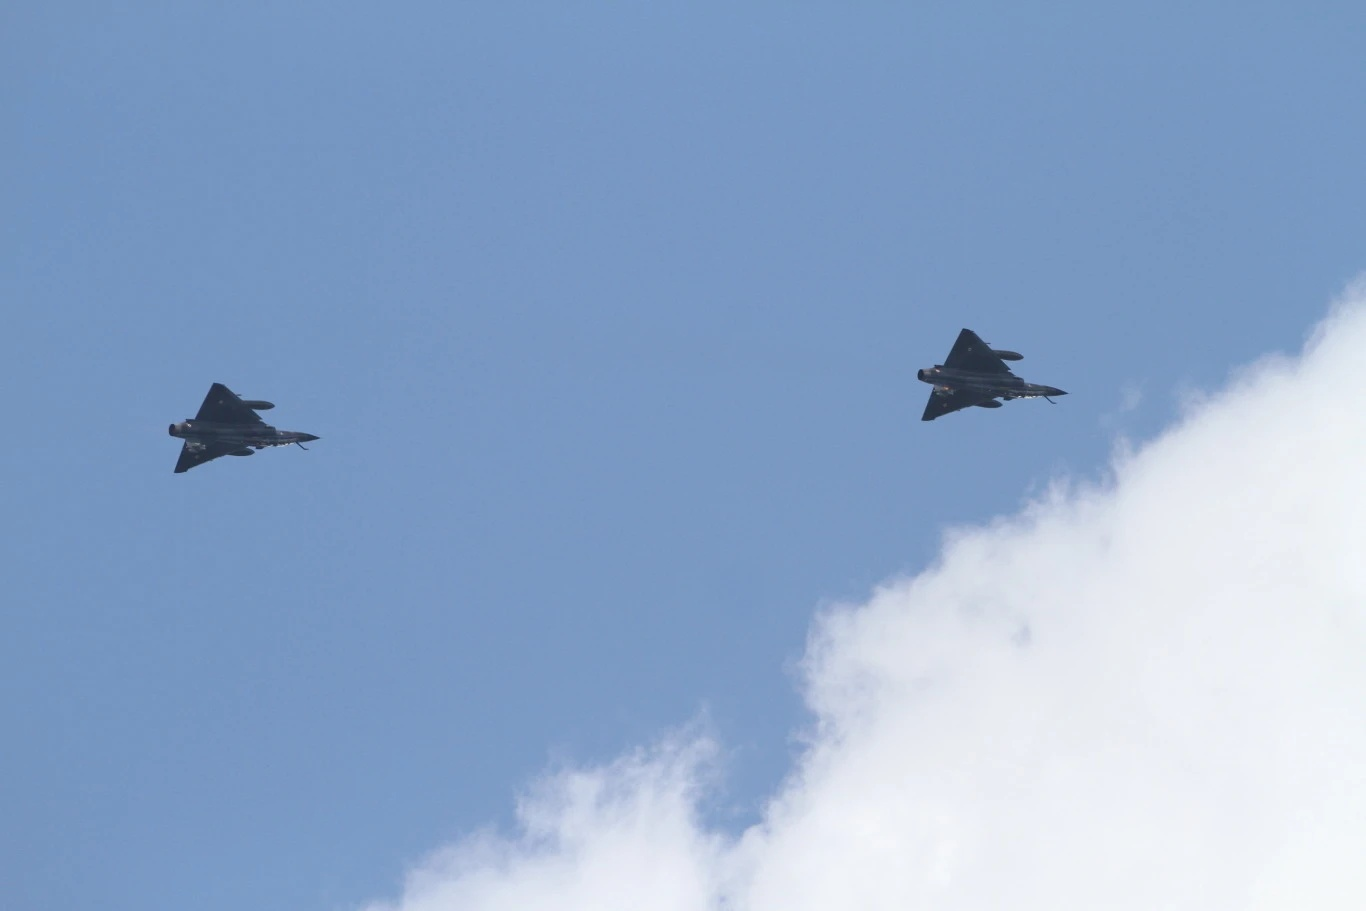Mirage2000: (917, 327, 1072, 422), (168, 382, 324, 474)
